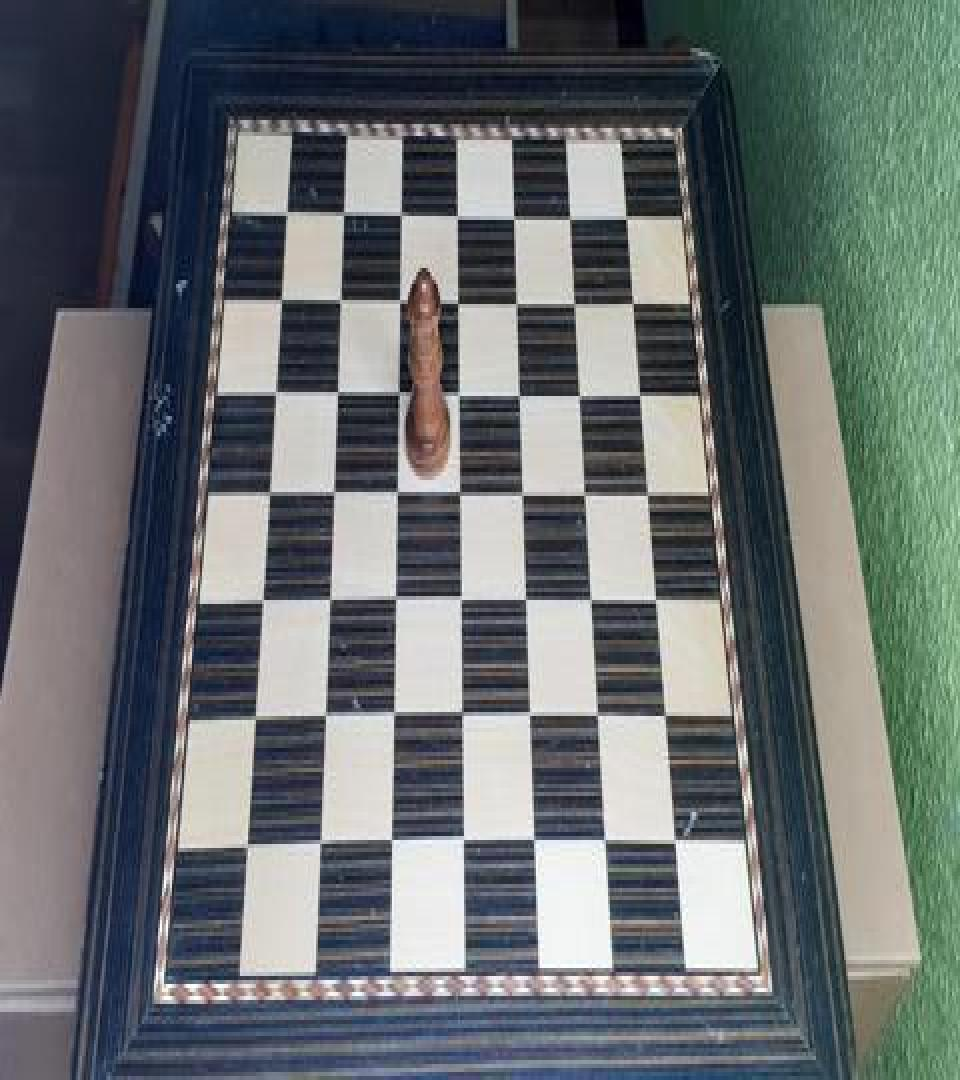xcorner: (275, 188, 293, 224), (270, 276, 288, 312), (265, 370, 283, 406), (259, 472, 277, 508), (252, 582, 270, 618), (245, 700, 263, 736), (238, 828, 256, 864), (334, 190, 352, 226), (331, 278, 349, 314), (327, 372, 345, 408), (323, 472, 341, 508), (320, 582, 338, 618), (315, 700, 333, 736), (311, 828, 329, 864), (392, 190, 410, 226), (391, 278, 409, 314), (389, 372, 407, 408), (388, 474, 406, 510), (387, 582, 405, 618), (385, 700, 403, 736), (383, 828, 401, 864), (450, 192, 468, 228), (450, 280, 468, 316), (451, 374, 469, 410), (452, 474, 470, 510), (453, 582, 471, 618), (454, 700, 472, 736), (456, 828, 474, 864), (507, 192, 525, 228), (510, 280, 528, 316), (513, 374, 531, 410), (516, 474, 534, 510), (520, 584, 538, 620), (523, 700, 541, 736), (527, 828, 545, 864), (565, 194, 583, 230), (569, 280, 587, 316), (574, 374, 592, 410), (580, 476, 598, 512), (586, 584, 604, 620), (592, 700, 610, 736), (599, 828, 617, 864), (622, 194, 640, 230), (629, 282, 647, 318), (636, 376, 654, 412), (643, 476, 661, 512), (652, 584, 670, 620), (661, 700, 679, 736), (670, 828, 688, 864)
